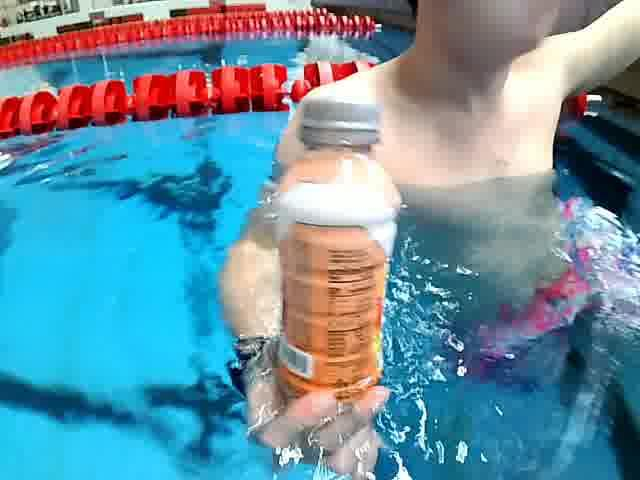Bottle: (266, 90, 398, 440)
